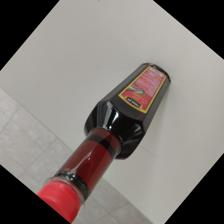Namngu: (34, 62, 171, 224)
